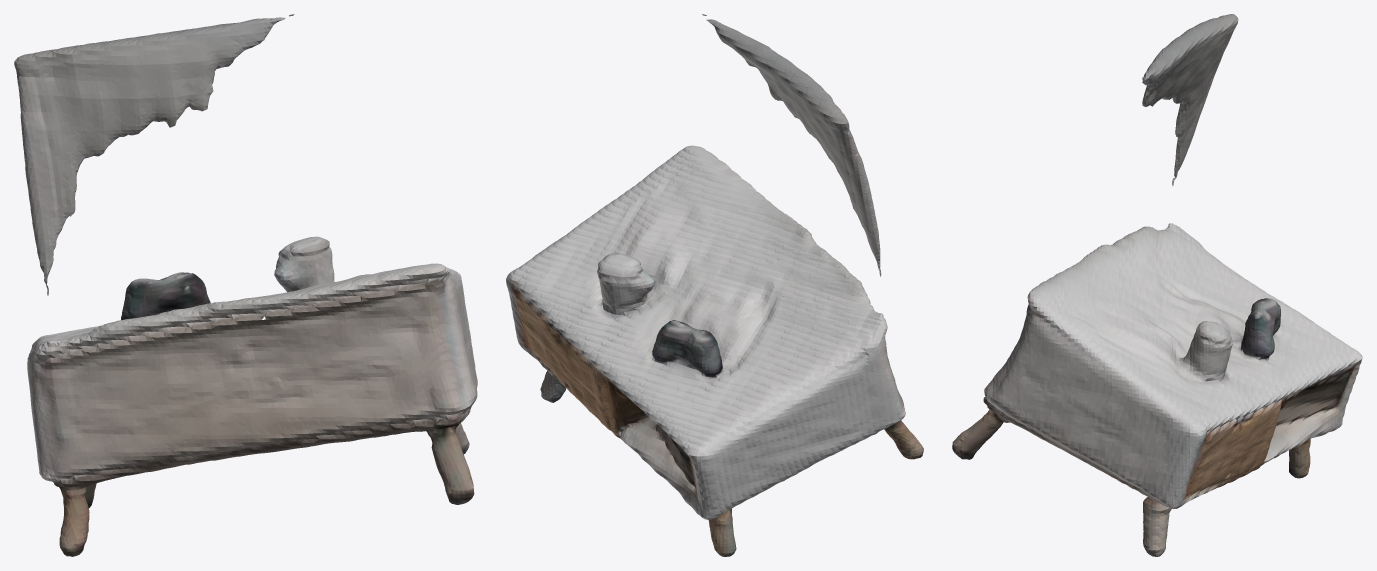
File: coffee.glb
3 renders of one model, left to right at view 1: azimuth 30°, elevation 25°; view 2: azimuth 150°, elevation 25°; view 3: azimuth 270°, elevation 25°, orthographic. The views are drawn at different scales.
Visible parts, largest first — view 1: geometry_0; view 2: geometry_0; view 3: geometry_0.
Boxes of the visible parts, <box> form: geometry_0: <box>14,14,477,556</box>; geometry_0: <box>506,14,923,556</box>; geometry_0: <box>952,14,1362,556</box>.
Size of the model in its own units: 0.8545 by 0.9896 by 0.8237.
